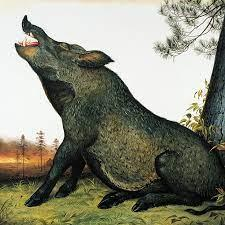wildboar: (12, 14, 225, 218)
